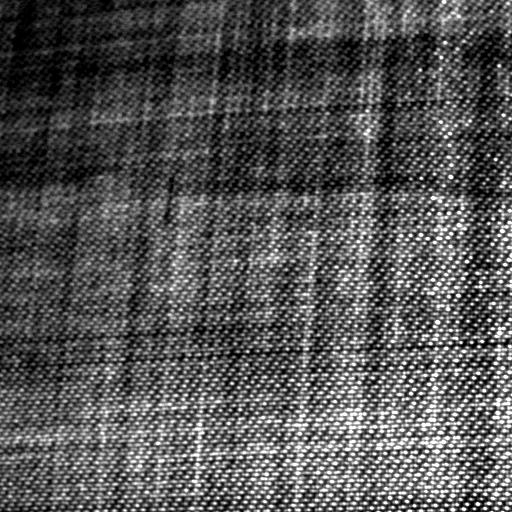fabric_perfect: (2, 0, 512, 508)
